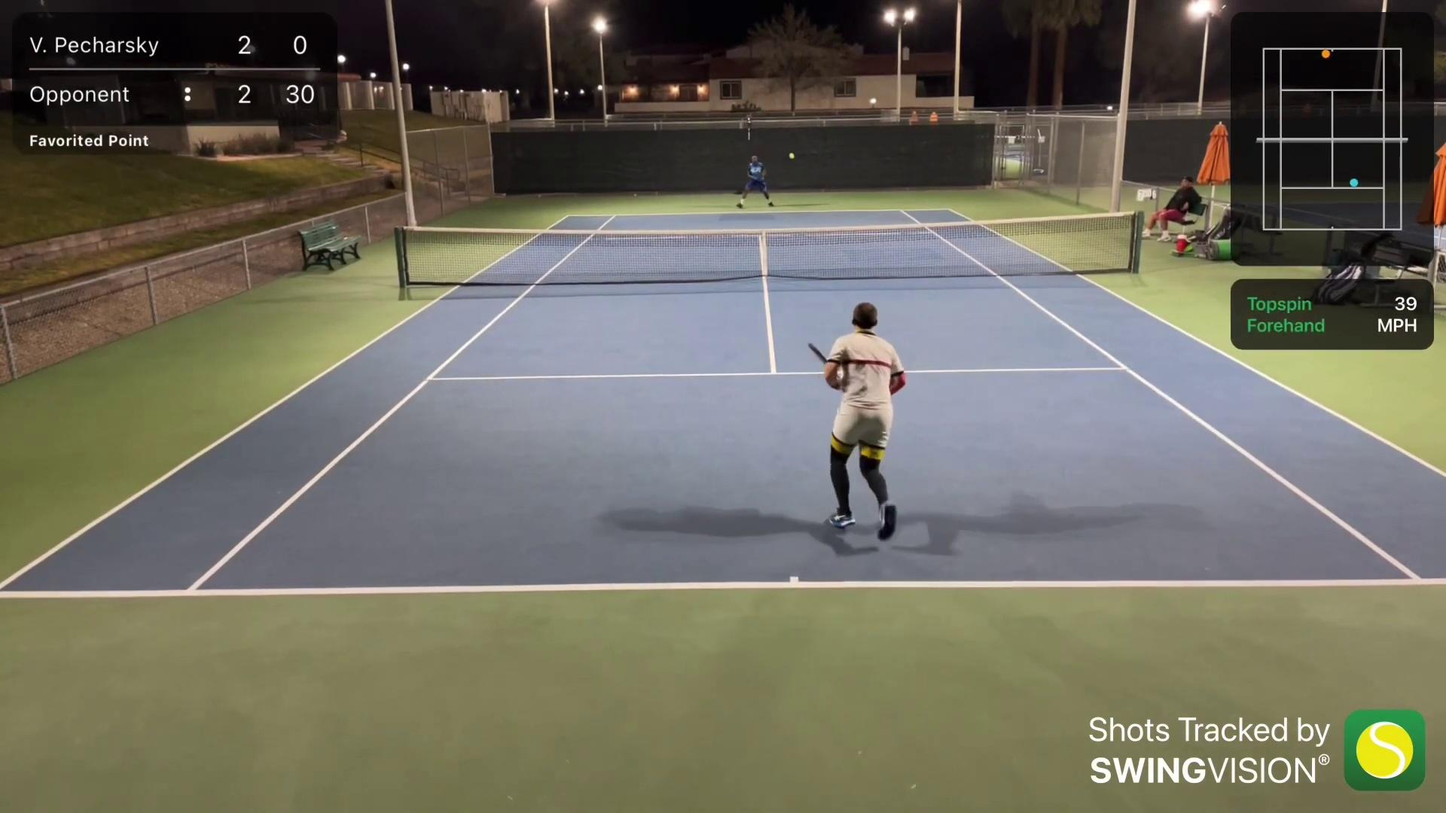ball: (788, 152, 796, 159)
